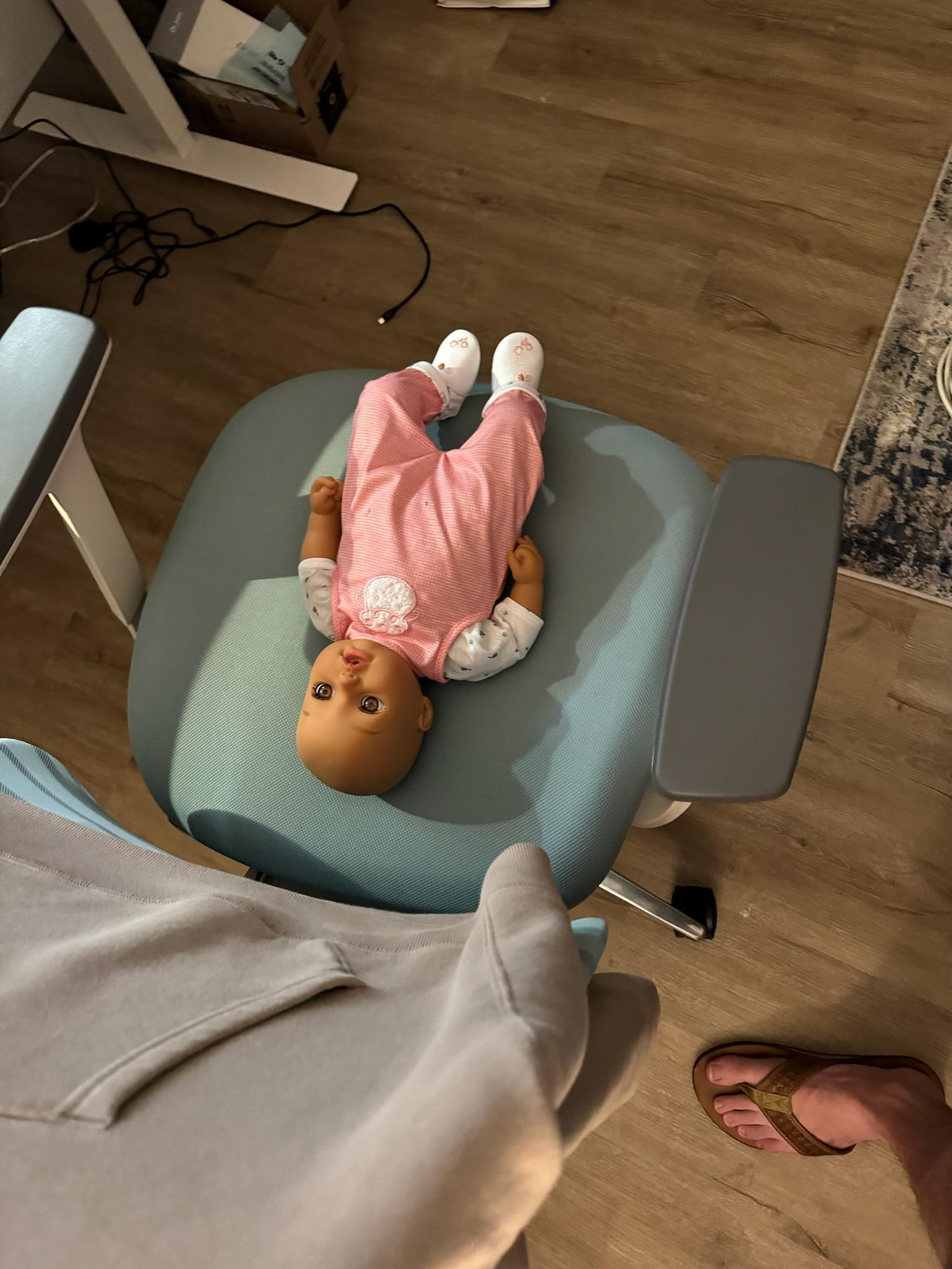baby: (302, 322, 562, 799)
